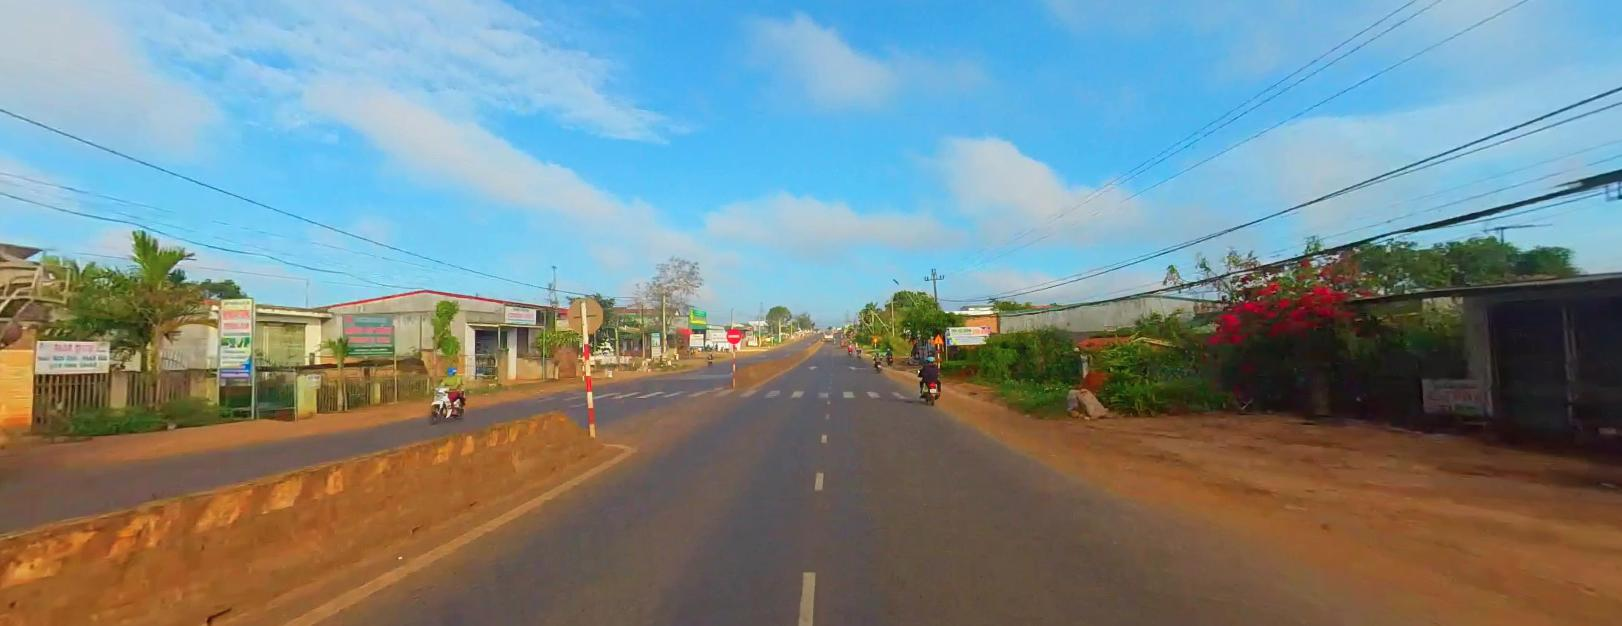Cam nguoc chieu: (726, 327, 741, 342)
Nguy hiem: (932, 332, 944, 342)
